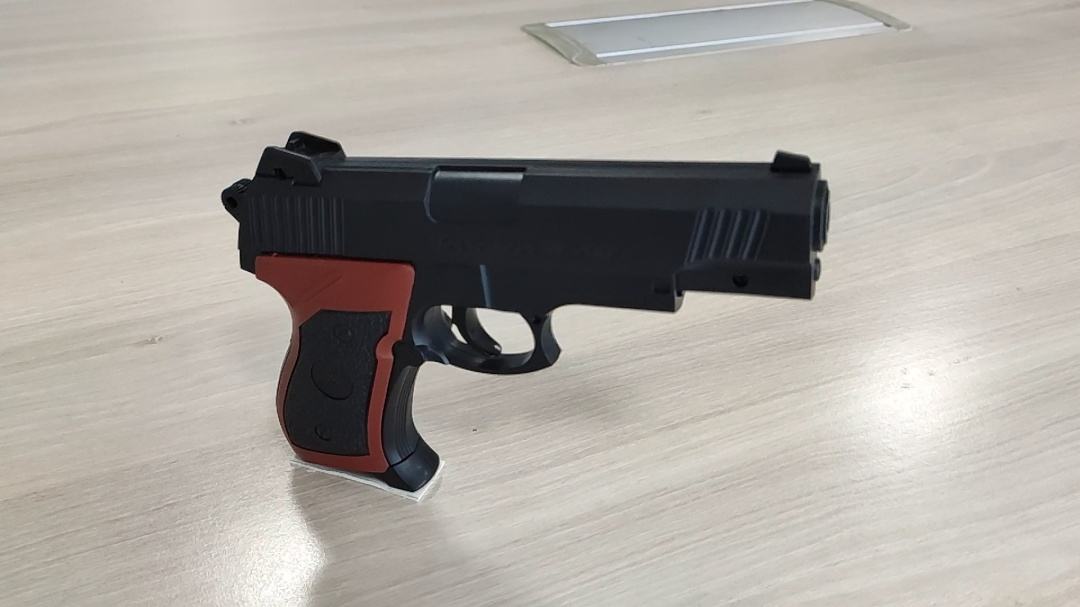gun: (590, 253, 639, 299)
